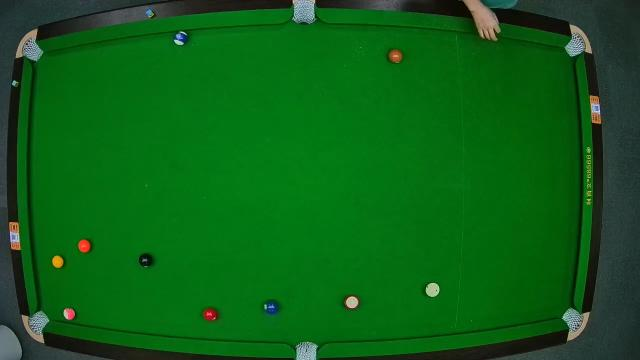bag1: (21, 38, 44, 60)
bag2: (288, 0, 319, 24)
bag3: (568, 28, 588, 58)
bag4: (22, 310, 50, 336)
bag5: (292, 340, 320, 360)
bag6: (563, 309, 589, 335)
ball0: (425, 282, 439, 298)
ball1: (52, 256, 64, 270)
ball10: (175, 31, 188, 47)
ball11: (343, 296, 359, 310)
ball12: (62, 306, 76, 322)
ball2: (264, 300, 280, 316)
ball3: (204, 308, 218, 324)
ball5: (78, 238, 90, 255)
ball7: (389, 50, 403, 64)
ball8: (138, 253, 154, 268)
